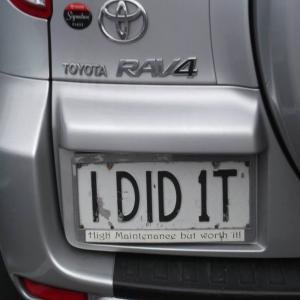Vehicle-registration-plate: (52, 136, 269, 258)
